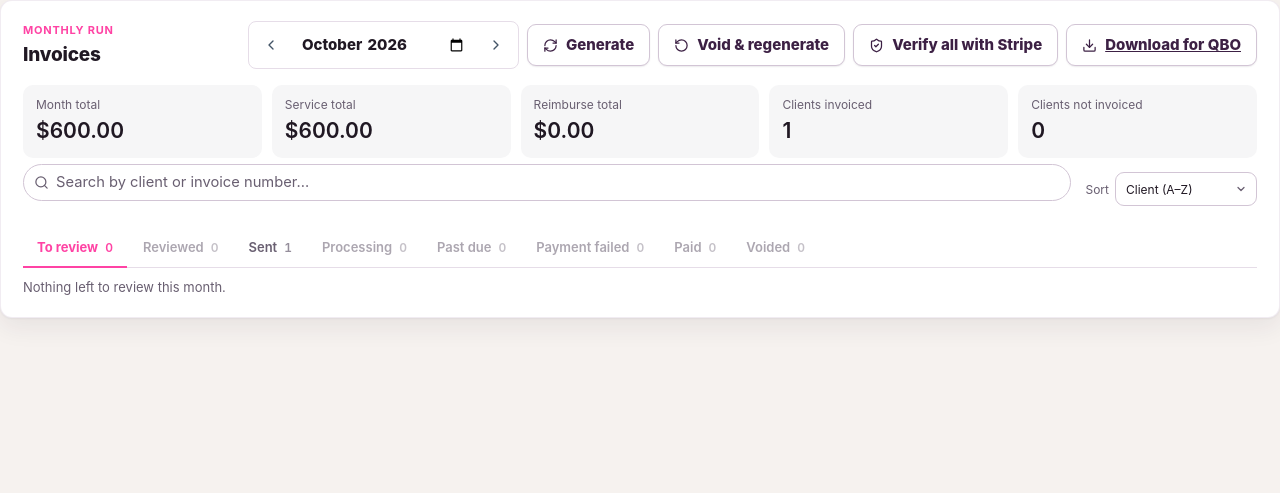
Test case: the row says it tomorrow › shows a quiet badge on a marked sent invoice, before anything is opened
What coordinates should you click on to do the following:
click the tab "Sent 1"
I would click on:
 (270, 249)
Its box is [234, 229, 306, 268].
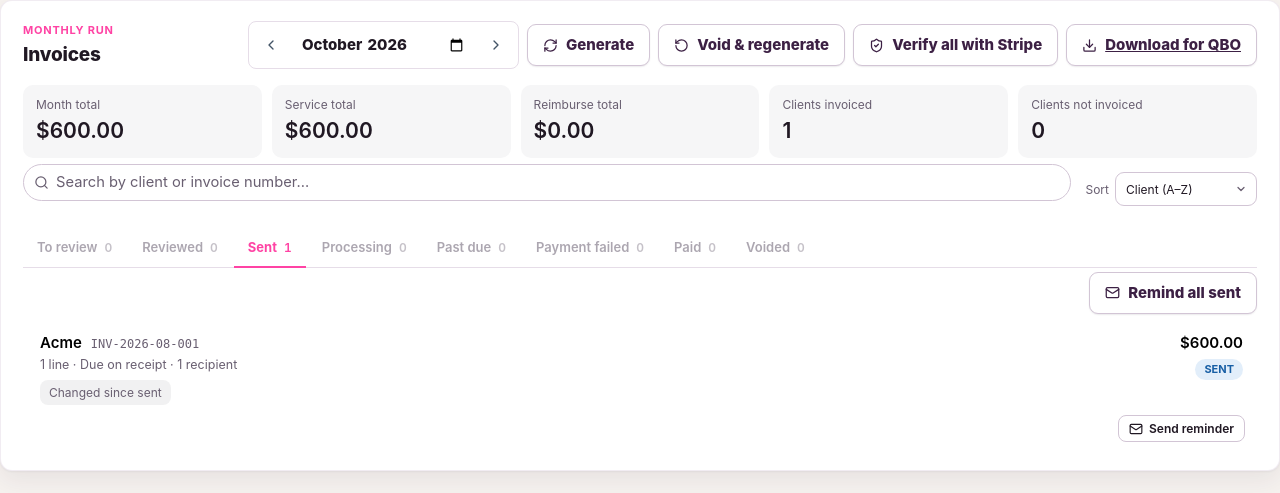
Now the text "Changed since sent" is shown, box [40, 380, 171, 405]
